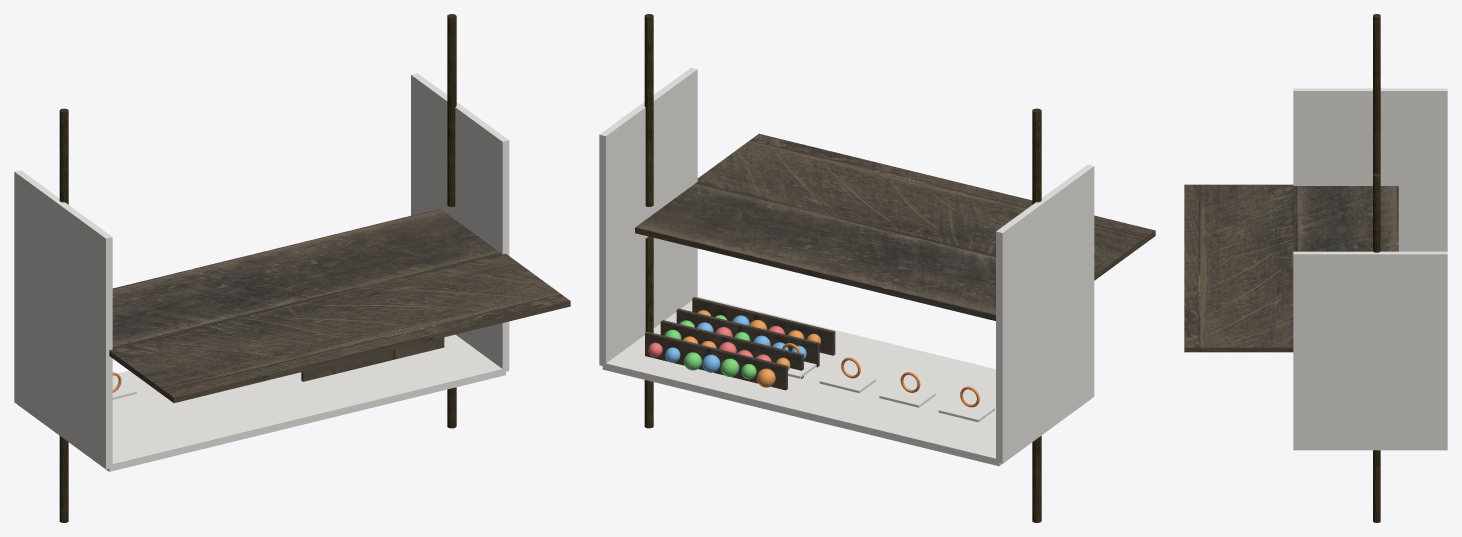
The model's file is booth_full.glb.
The picture shows the model from 3 angles, left to right: view 1: azimuth 30°, elevation 25°; view 2: azimuth 150°, elevation 25°; view 3: azimuth 270°, elevation 25°; orthographic projection. The views are drawn at different scales.
Parts seen in each view (by area): view 1: Floor, SideWall_0, BackWall, SideWall_1, Post_1_1, Shelf_0, Post_-1_1, Post_-1_-1; view 2: Floor, SideWall_0, BackWall, SideWall_1, Shelf_3, Shelf_0, Post_1_1, Shelf_2, Shelf_1, Post_1_-1, Post_-1_1, Post_-1_-1 (+3 smaller); view 3: SideWall_1, Floor, SideWall_0, Post_-1_1, Post_1_1, Post_1_-1, BackWall.
Part boxes in pixels (<box>): Floor: <box>109,208,570,402</box>; SideWall_0: <box>14,170,112,469</box>; BackWall: <box>18,334,505,471</box>; SideWall_1: <box>411,73,509,371</box>; Post_1_1: <box>447,14,456,206</box>; Shelf_0: <box>301,337,444,381</box>; Post_-1_1: <box>59,108,68,204</box>; Post_-1_-1: <box>59,436,68,522</box>; Floor: <box>635,134,1155,320</box>; SideWall_0: <box>996,164,1094,463</box>; BackWall: <box>602,296,1090,466</box>; SideWall_1: <box>599,67,697,366</box>; Shelf_3: <box>645,331,787,390</box>; Shelf_0: <box>692,297,835,355</box>; Post_1_1: <box>644,14,653,206</box>; Shelf_2: <box>660,320,803,378</box>; Shelf_1: <box>676,308,819,367</box>; Post_1_-1: <box>644,236,653,428</box>; Post_-1_1: <box>1032,108,1041,204</box>; Post_-1_-1: <box>1032,435,1041,522</box>; SideWall_1: <box>1293,251,1447,448</box>; Floor: <box>1184,184,1398,352</box>; SideWall_0: <box>1293,88,1447,251</box>; Post_-1_1: <box>1373,14,1380,174</box>; Post_1_1: <box>1373,173,1380,252</box>; Post_1_-1: <box>1373,450,1380,522</box>; BackWall: <box>1293,448,1447,450</box>.
Size of the model in its own units: 9.15 by 8.9 by 6.14.
Materials: 32 (2 with a texture image).
